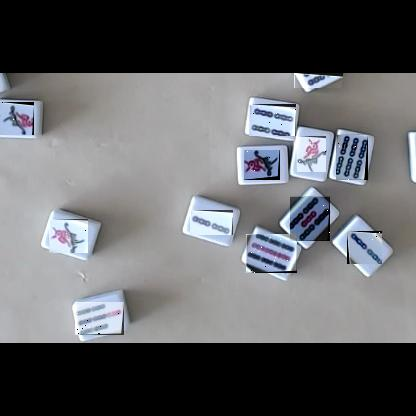1s: (49, 219, 88, 253), (0, 102, 34, 135), (296, 136, 326, 172), (244, 150, 280, 180)
2s: (347, 231, 382, 264), (190, 210, 233, 235)
4s: (249, 104, 296, 136)
5s: (290, 196, 330, 241)
6s: (336, 134, 368, 180), (294, 73, 343, 88)
7s: (75, 302, 124, 335)
9s: (246, 234, 297, 273)
